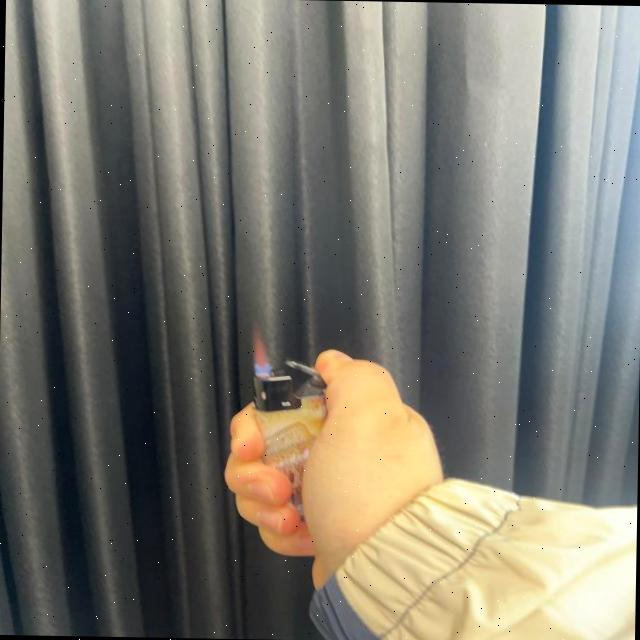fire: (250, 326, 274, 376)
